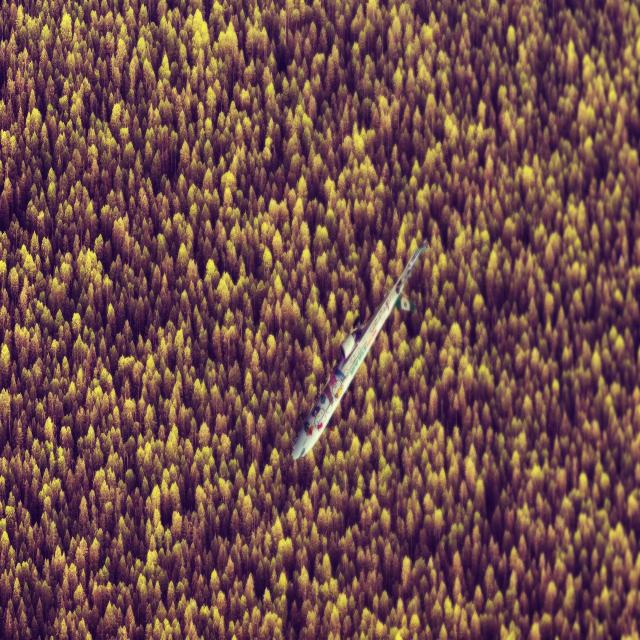airplane: (291, 239, 428, 461)
